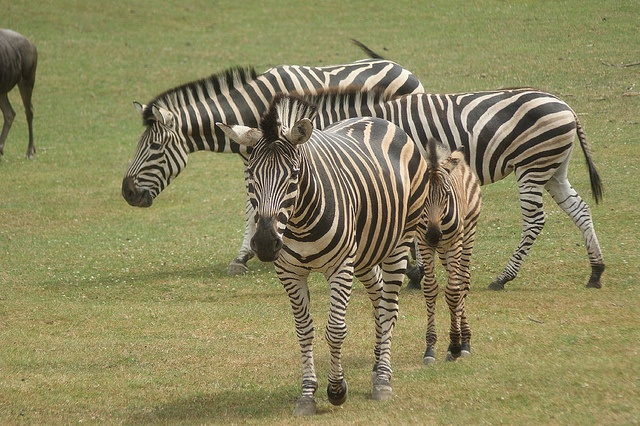zebra: (213, 96, 431, 402), (122, 56, 426, 272), (301, 86, 609, 289), (413, 140, 486, 362)
